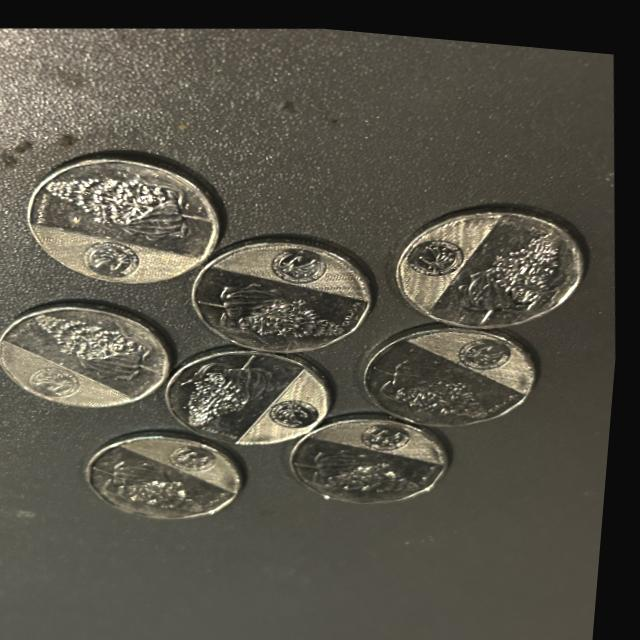10_New_Back: (38, 147, 209, 290), (404, 199, 569, 322), (211, 230, 362, 352), (6, 302, 159, 413), (384, 311, 537, 419), (173, 338, 321, 445), (95, 423, 247, 526), (295, 405, 451, 505)
